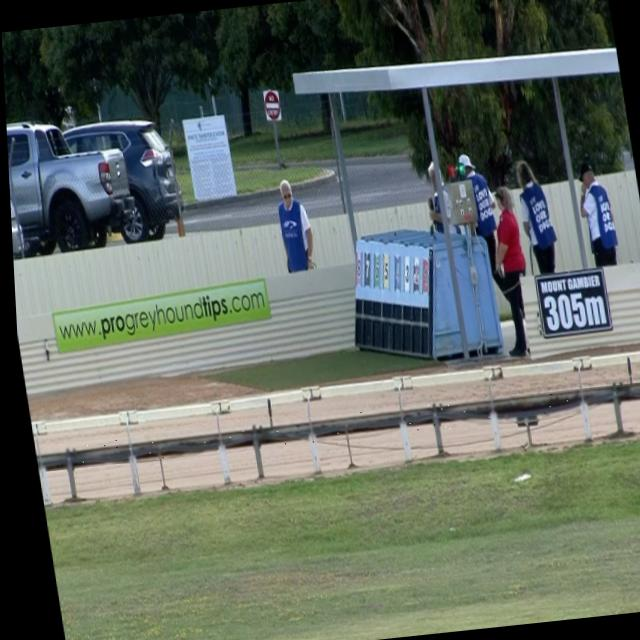rail: (31, 382, 640, 472)
